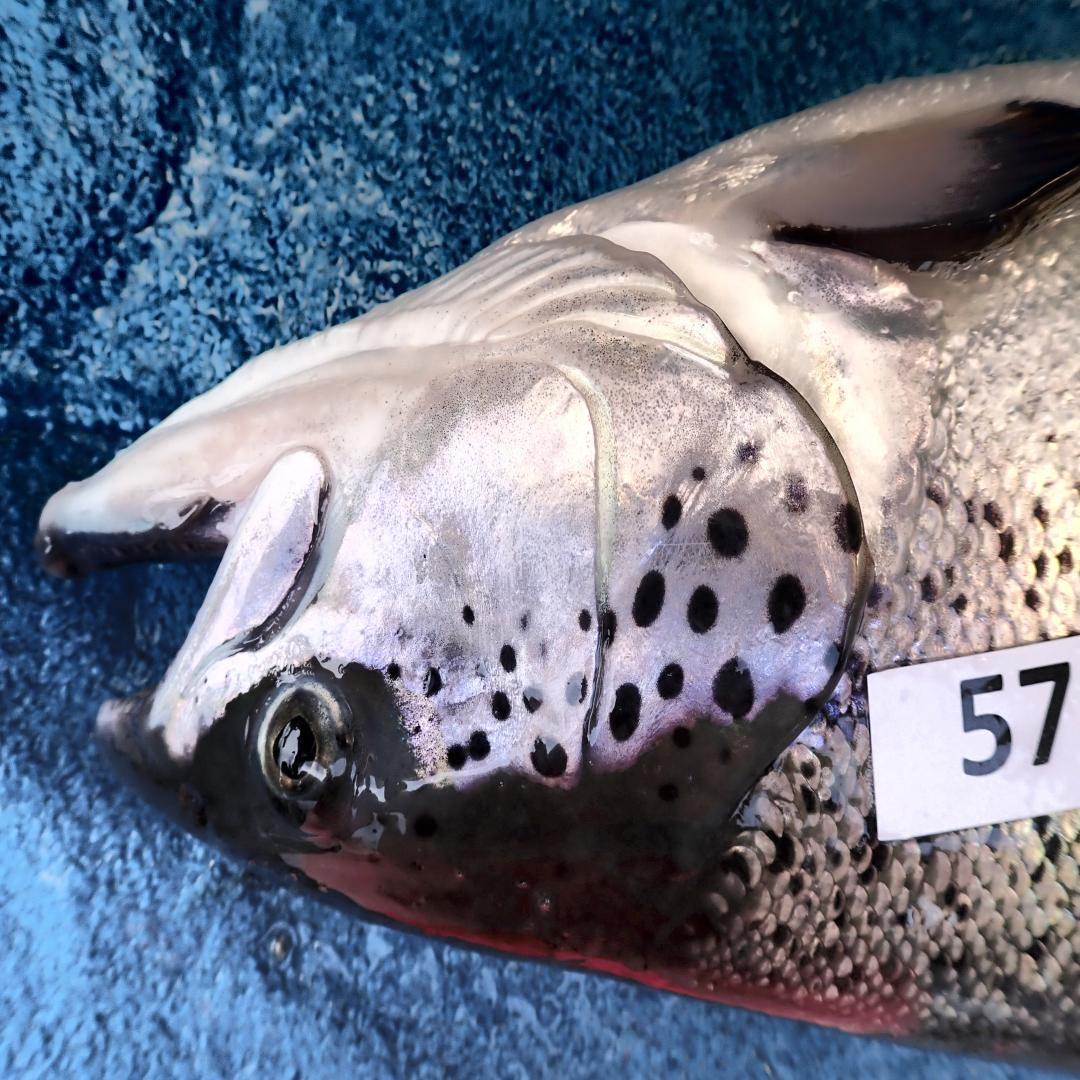spot: (712, 657, 754, 719), (768, 574, 806, 634), (706, 508, 749, 558), (609, 683, 641, 742), (632, 570, 665, 627), (687, 584, 719, 634), (833, 502, 862, 554), (531, 736, 566, 778), (784, 474, 809, 513), (657, 663, 683, 699), (565, 672, 587, 706), (662, 494, 682, 530), (468, 730, 491, 761), (424, 666, 443, 697), (602, 609, 617, 647), (492, 691, 511, 720), (823, 642, 841, 672), (447, 744, 467, 770), (737, 441, 759, 464), (523, 686, 542, 712), (500, 644, 517, 672), (578, 609, 591, 631), (462, 604, 475, 626), (386, 662, 401, 680), (474, 660, 487, 679), (691, 466, 706, 482), (540, 640, 548, 658), (521, 612, 529, 629), (409, 725, 421, 734)
